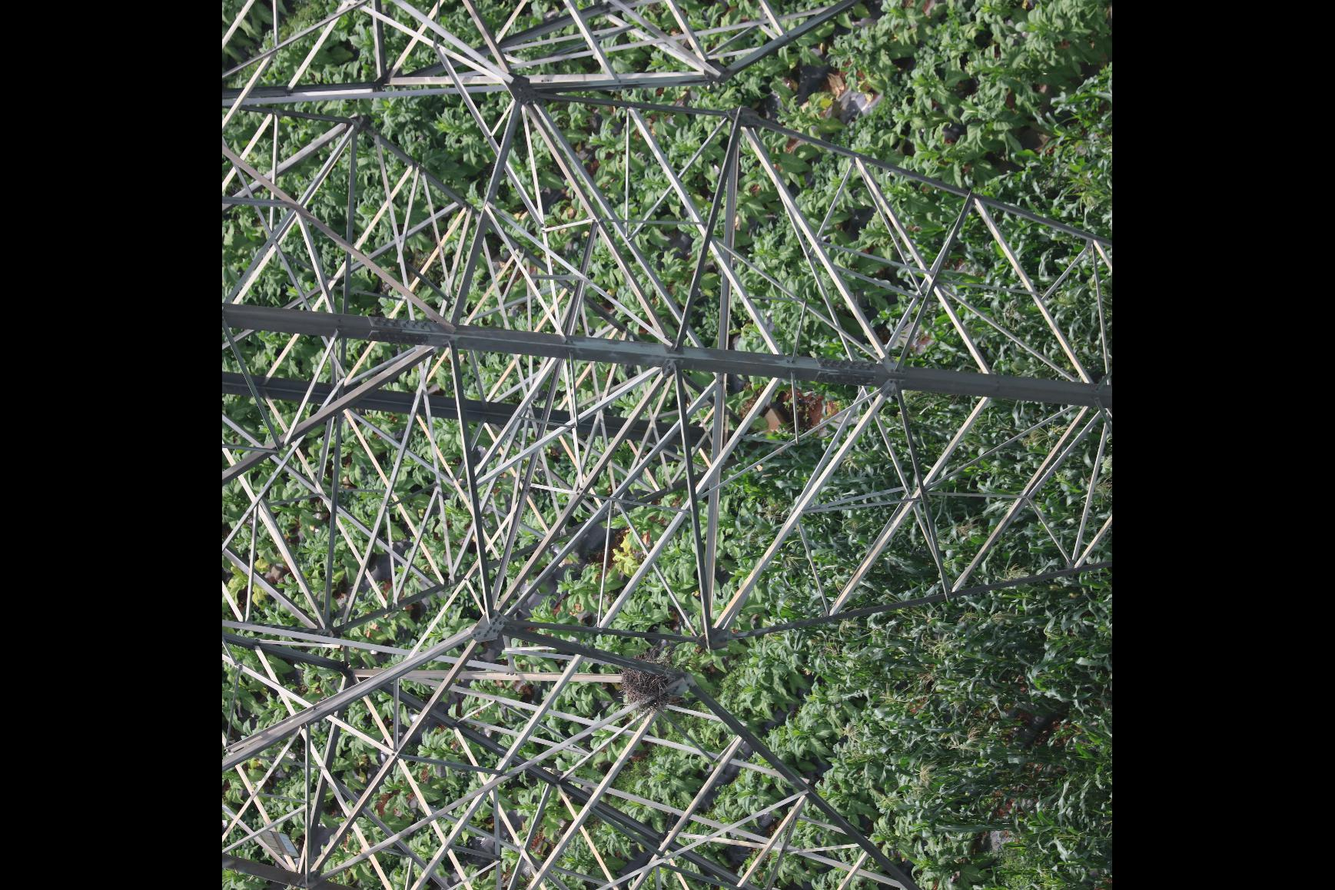nest: (619, 646, 675, 715)
